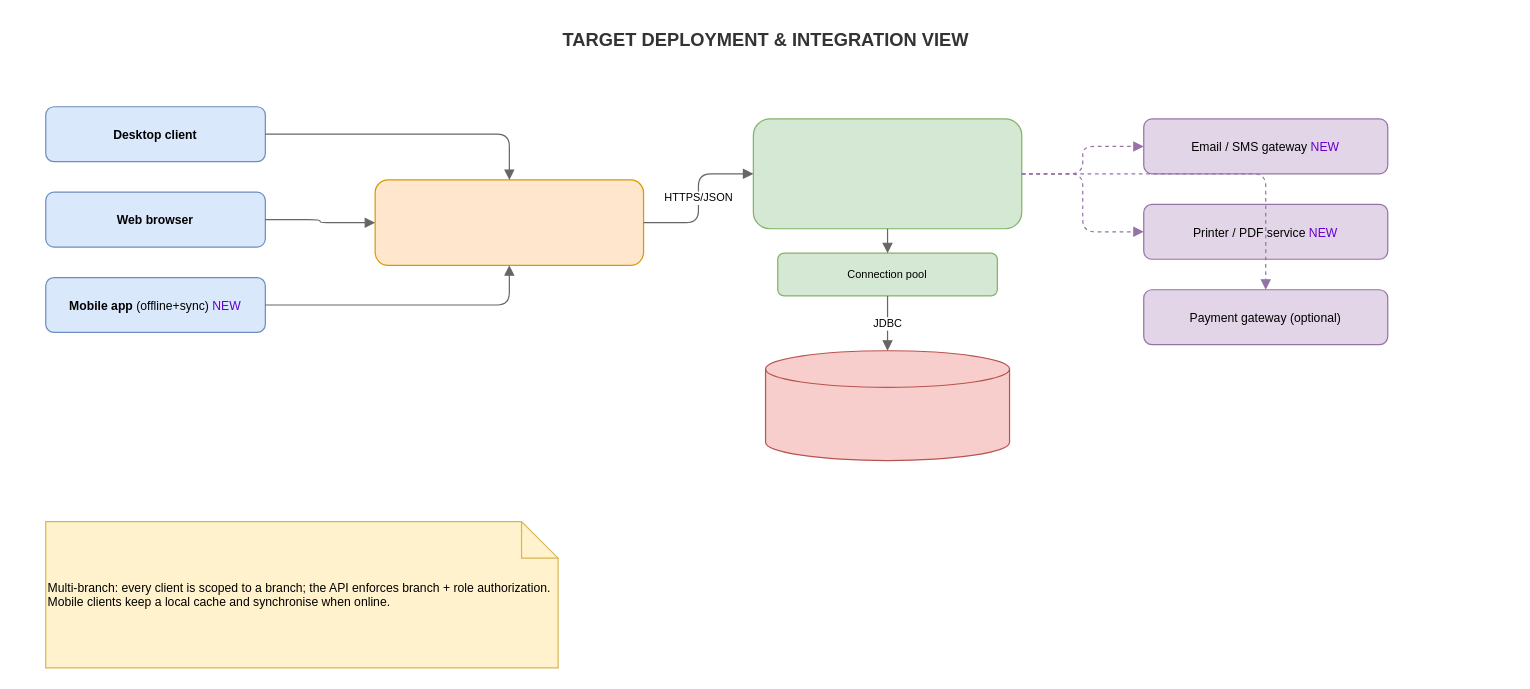
Some shapes in this 1530 by 689 pixel diagram are drawn without their labels. The shapes that lost their labels are listed below. From the top down, each one's centre as x and y in pixels, then its label:
point 887,173: Application server(s) REST API + Services + Scheduler (scalable, stateless)
point 509,222: API Gateway / Load balancer HTTPS · JWT auth · rate limit
point 887,405: MySQL / MariaDB pharmacy_ng (normalised)
